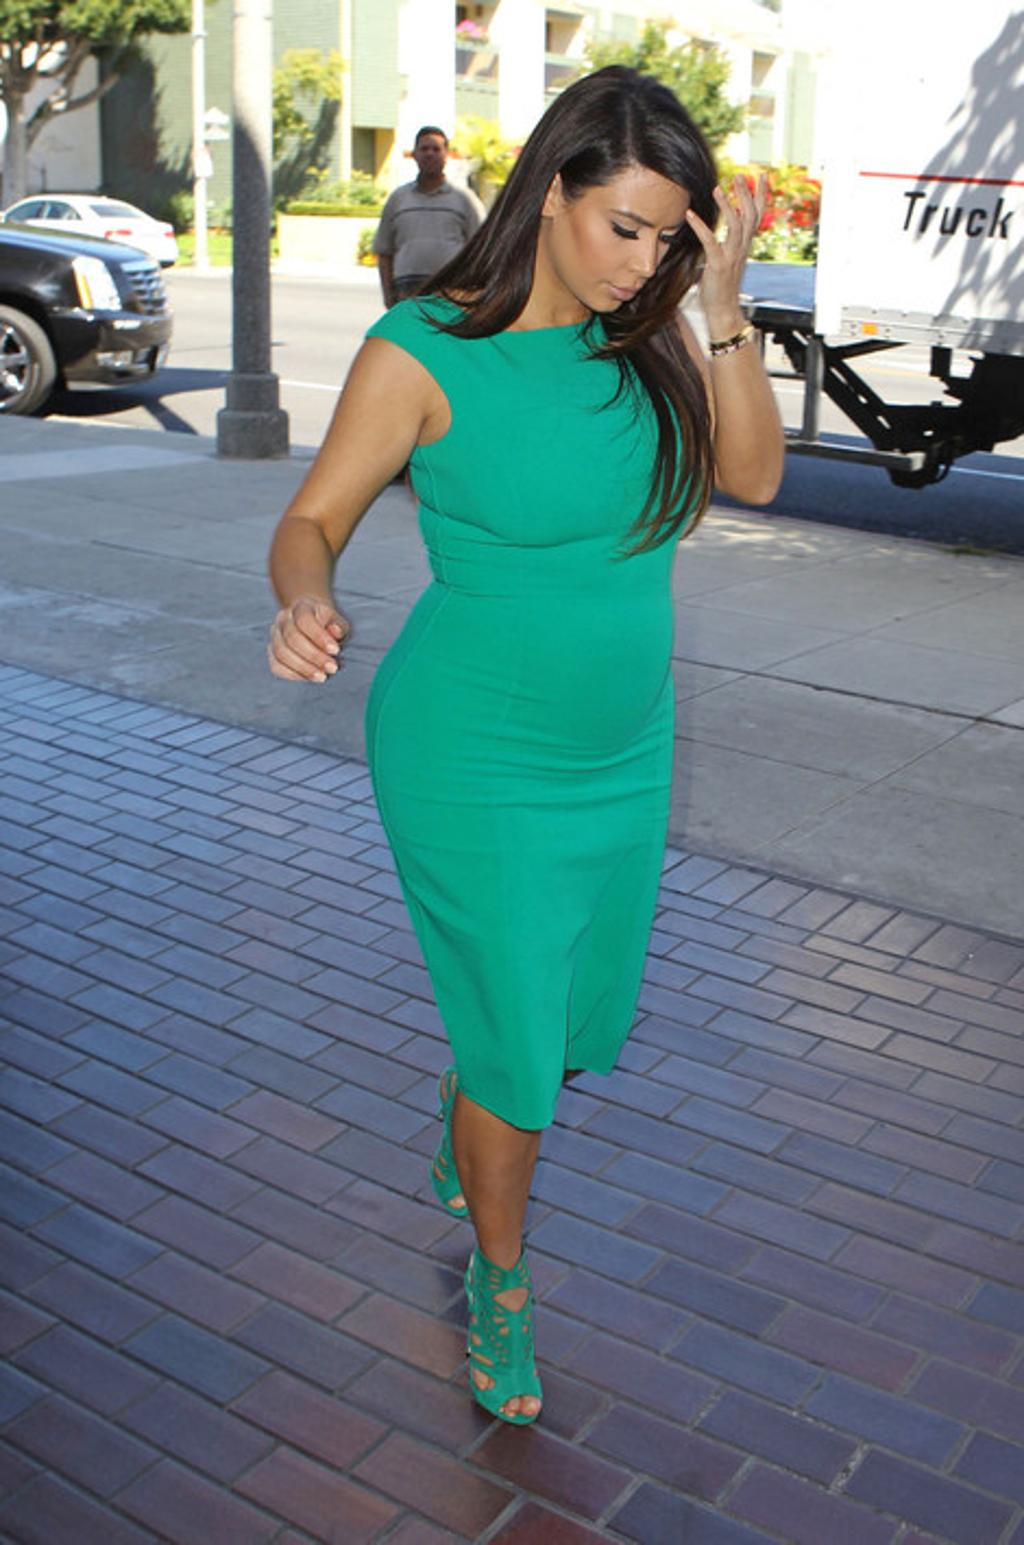face: (550, 185, 689, 312), (415, 135, 445, 175)
